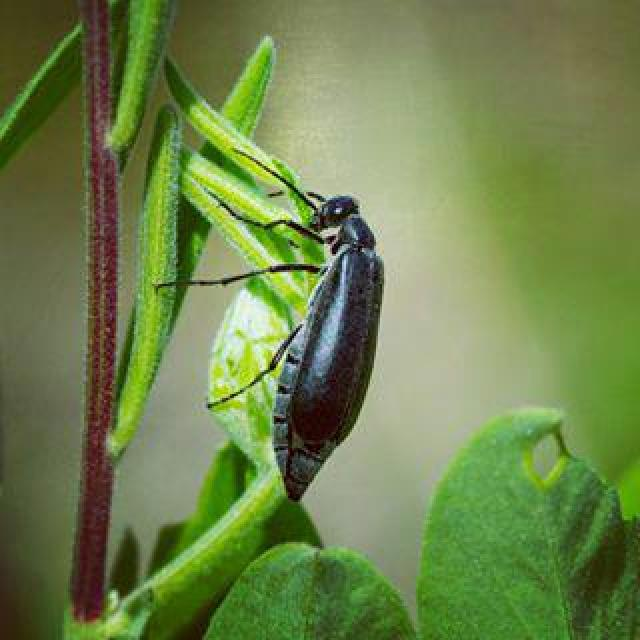BlisterBeetle-Adult-: (149, 140, 384, 507)
